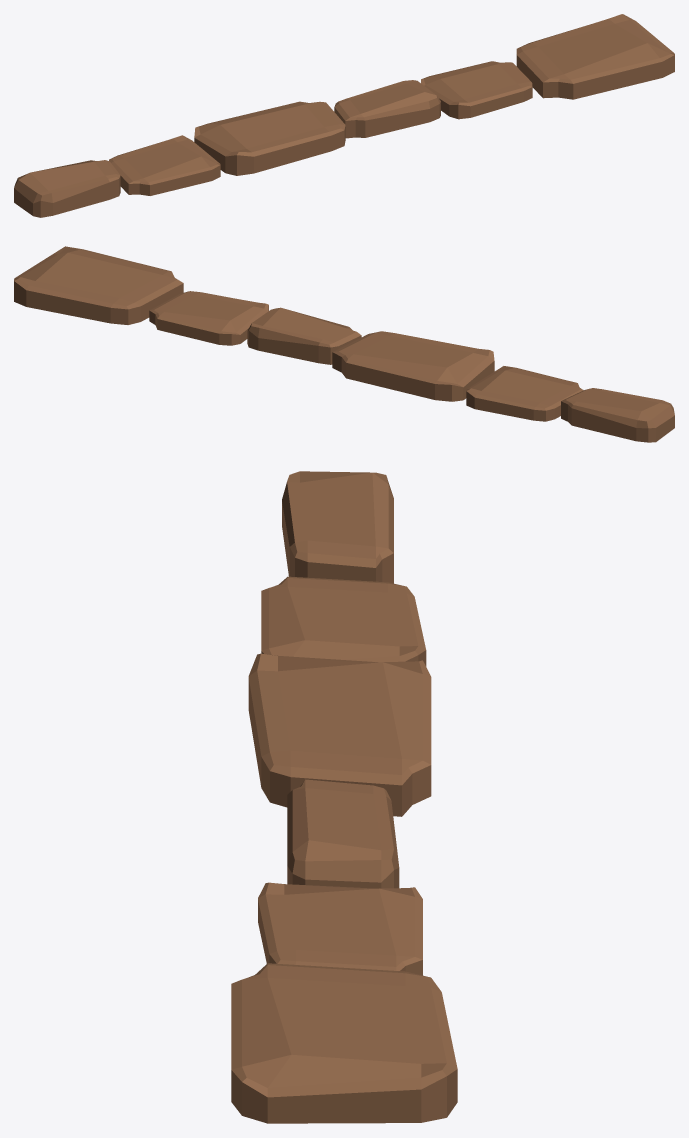
The model's file is piso.fbx.
3 renders of one model, top to bottom at view 1: azimuth 30°, elevation 25°; view 2: azimuth 150°, elevation 25°; view 3: azimuth 270°, elevation 25°, orthographic. The views are drawn at different scales.
Parts seen in each view (by area): view 1: Floor Filler.014; view 2: Floor Filler.014; view 3: Floor Filler.014.
Boxes of the visible parts, <box> form: Floor Filler.014: <box>14,14,674,217</box>; Floor Filler.014: <box>14,246,674,442</box>; Floor Filler.014: <box>231,471,457,1123</box>.
Bounding box in the file's own units: 994 × 40.44 × 155.
